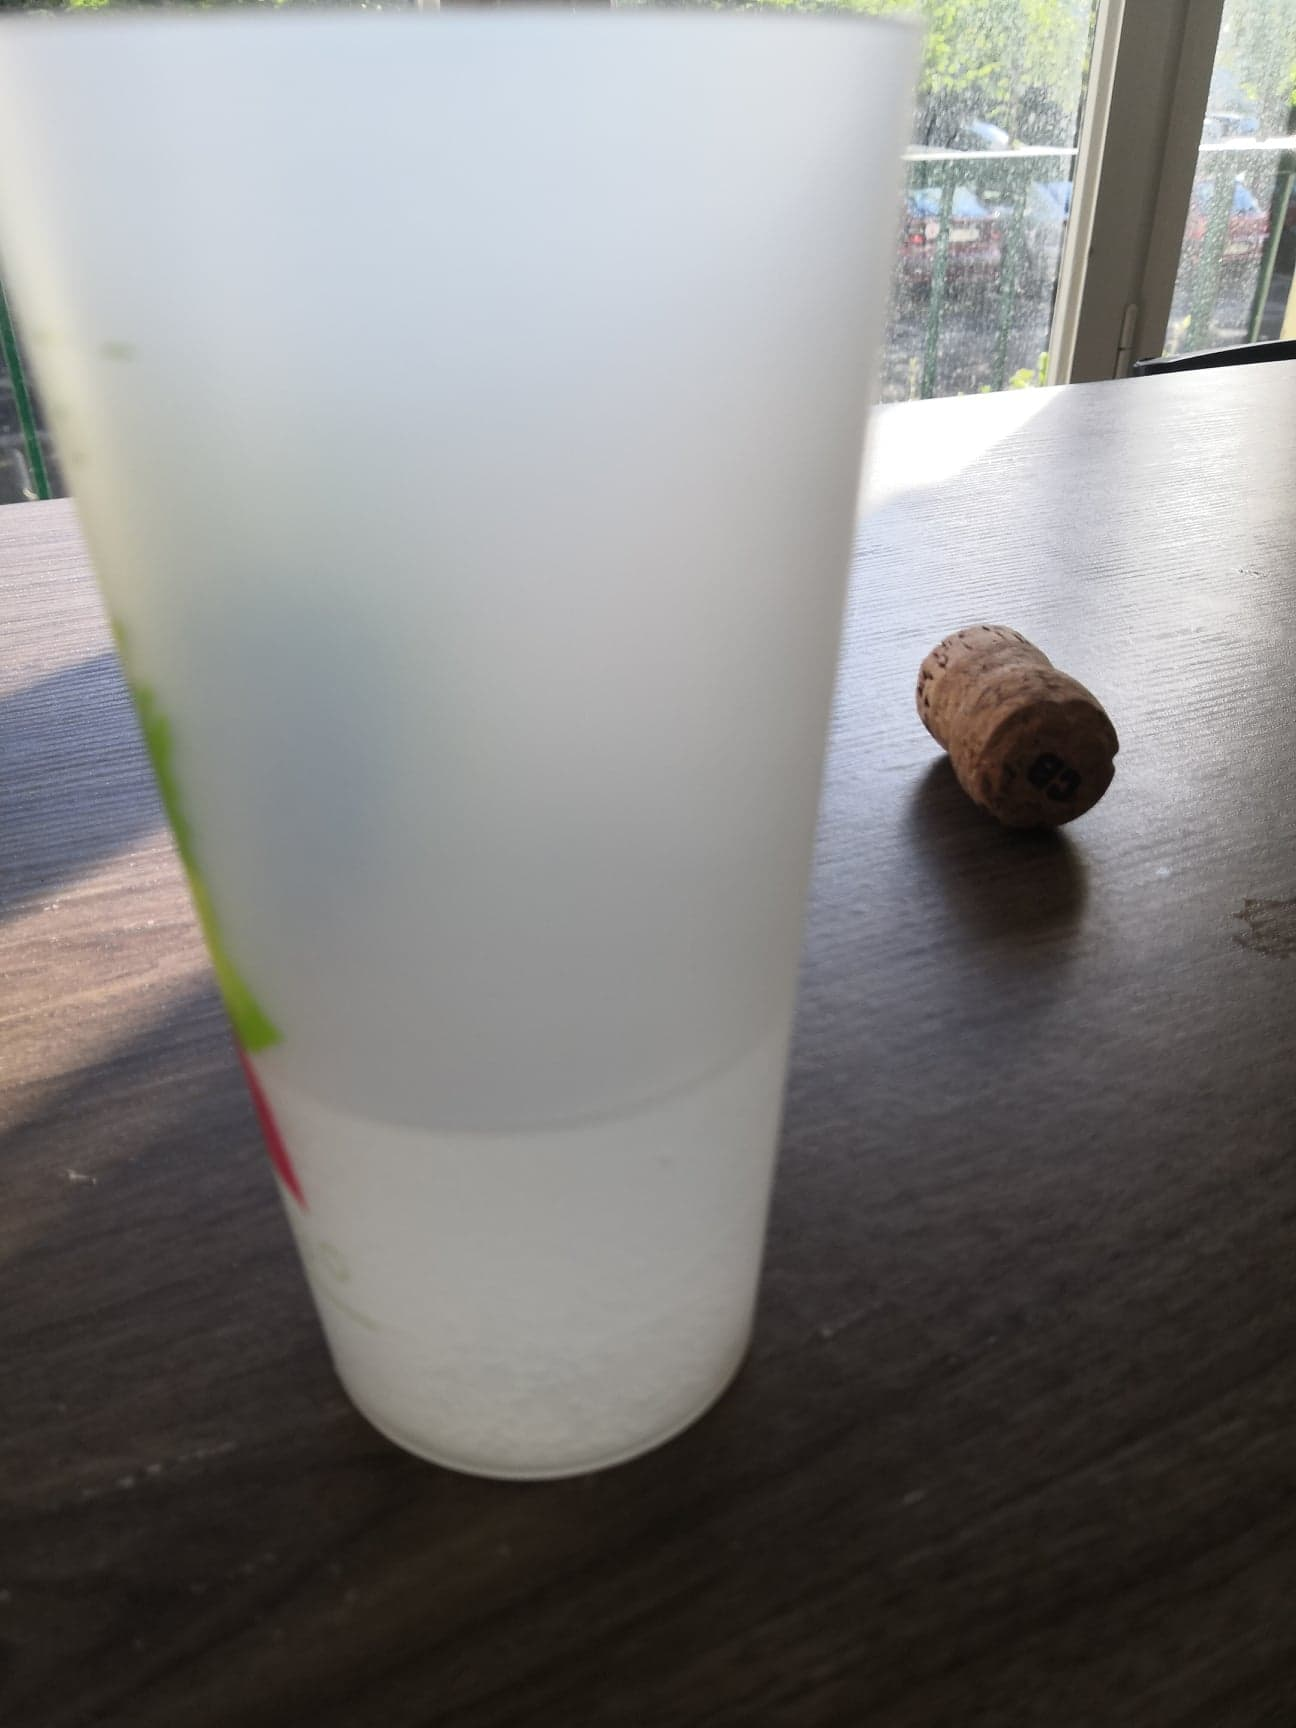ecocup: (1, 1, 931, 1480)
